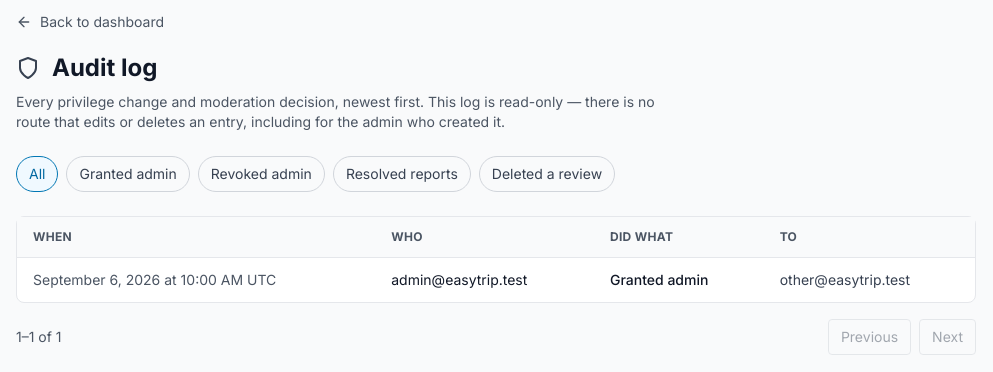
it: filtering › changing the filter cannot leave the old rows under the new heading
The width and height of the screenshot is (993, 372).
Expected: the text "admin@easytrip.test" is shown, left=375, top=258, right=594, bottom=302
Click the button "Deleted a review": (547, 174) left=479, top=156, right=615, bottom=192
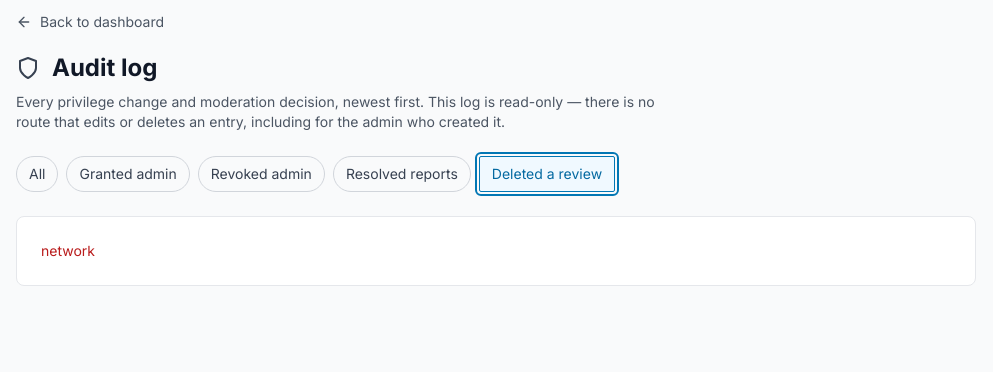
Expected: the message "network" is shown, left=41, top=242, right=95, bottom=259
Expected: the text "admin@easytrip.test" is gone
